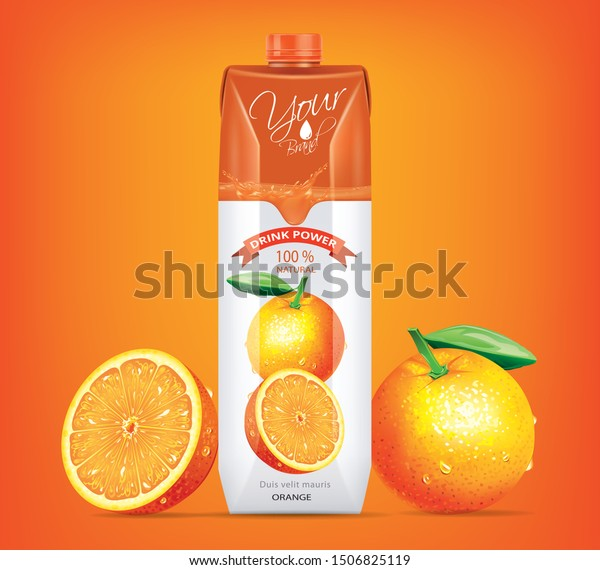carton: (204, 19, 391, 528)
